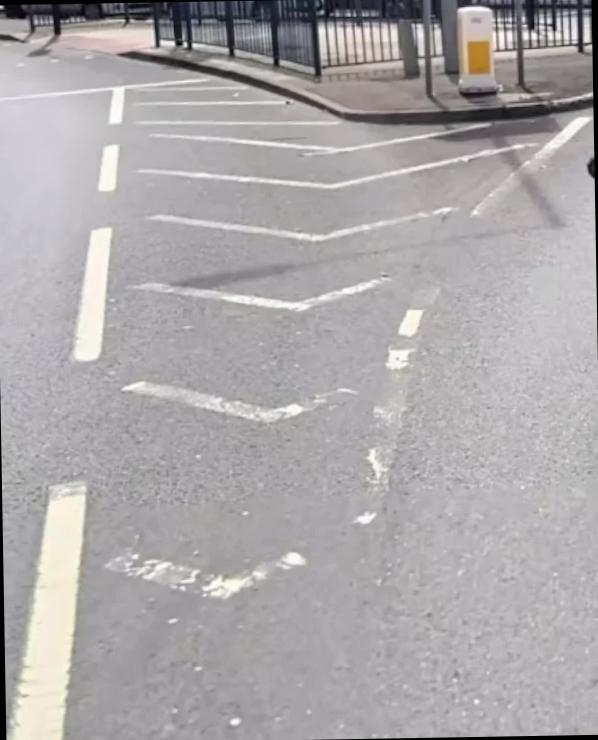faded_road_lines: (0, 68, 596, 740)
